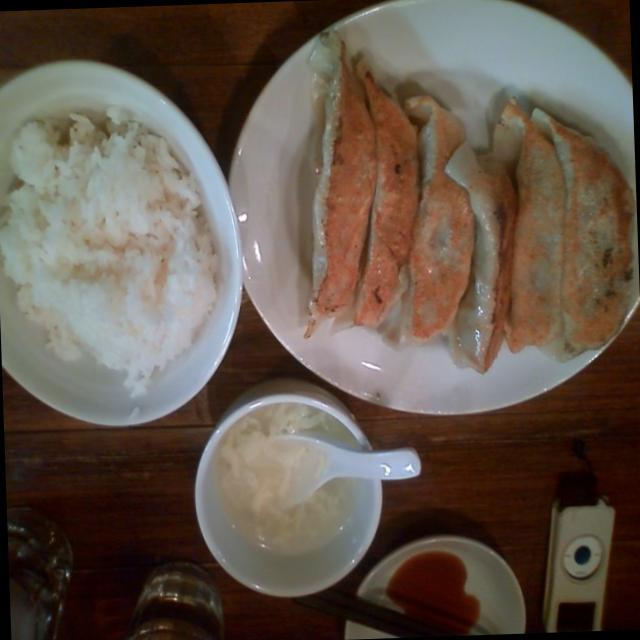Rice: (0, 98, 211, 399)
